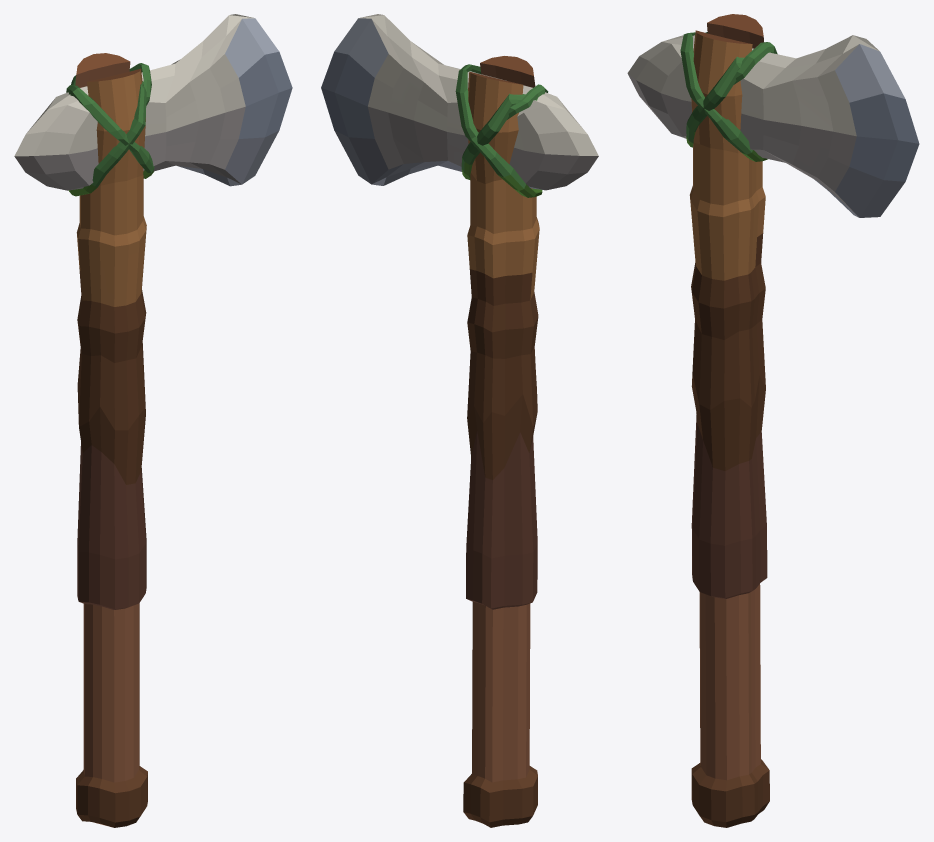
File: stone_axes.glb
3 views of the same model, side by side, from view 1: azimuth 30°, elevation 25°; view 2: azimuth 150°, elevation 25°; view 3: azimuth 330°, elevation 25° (orthographic). The views are drawn at different scales.
Parts seen in each view (by area): view 1: StoneAxe; view 2: StoneAxe; view 3: StoneAxe.
Boxes of the visible parts, bbox=[...] form: StoneAxe: bbox=[14, 14, 292, 827]; StoneAxe: bbox=[321, 14, 598, 827]; StoneAxe: bbox=[627, 14, 919, 827].
Bounding box in the file's own units: 0.2264 × 0.6 × 0.0651.
